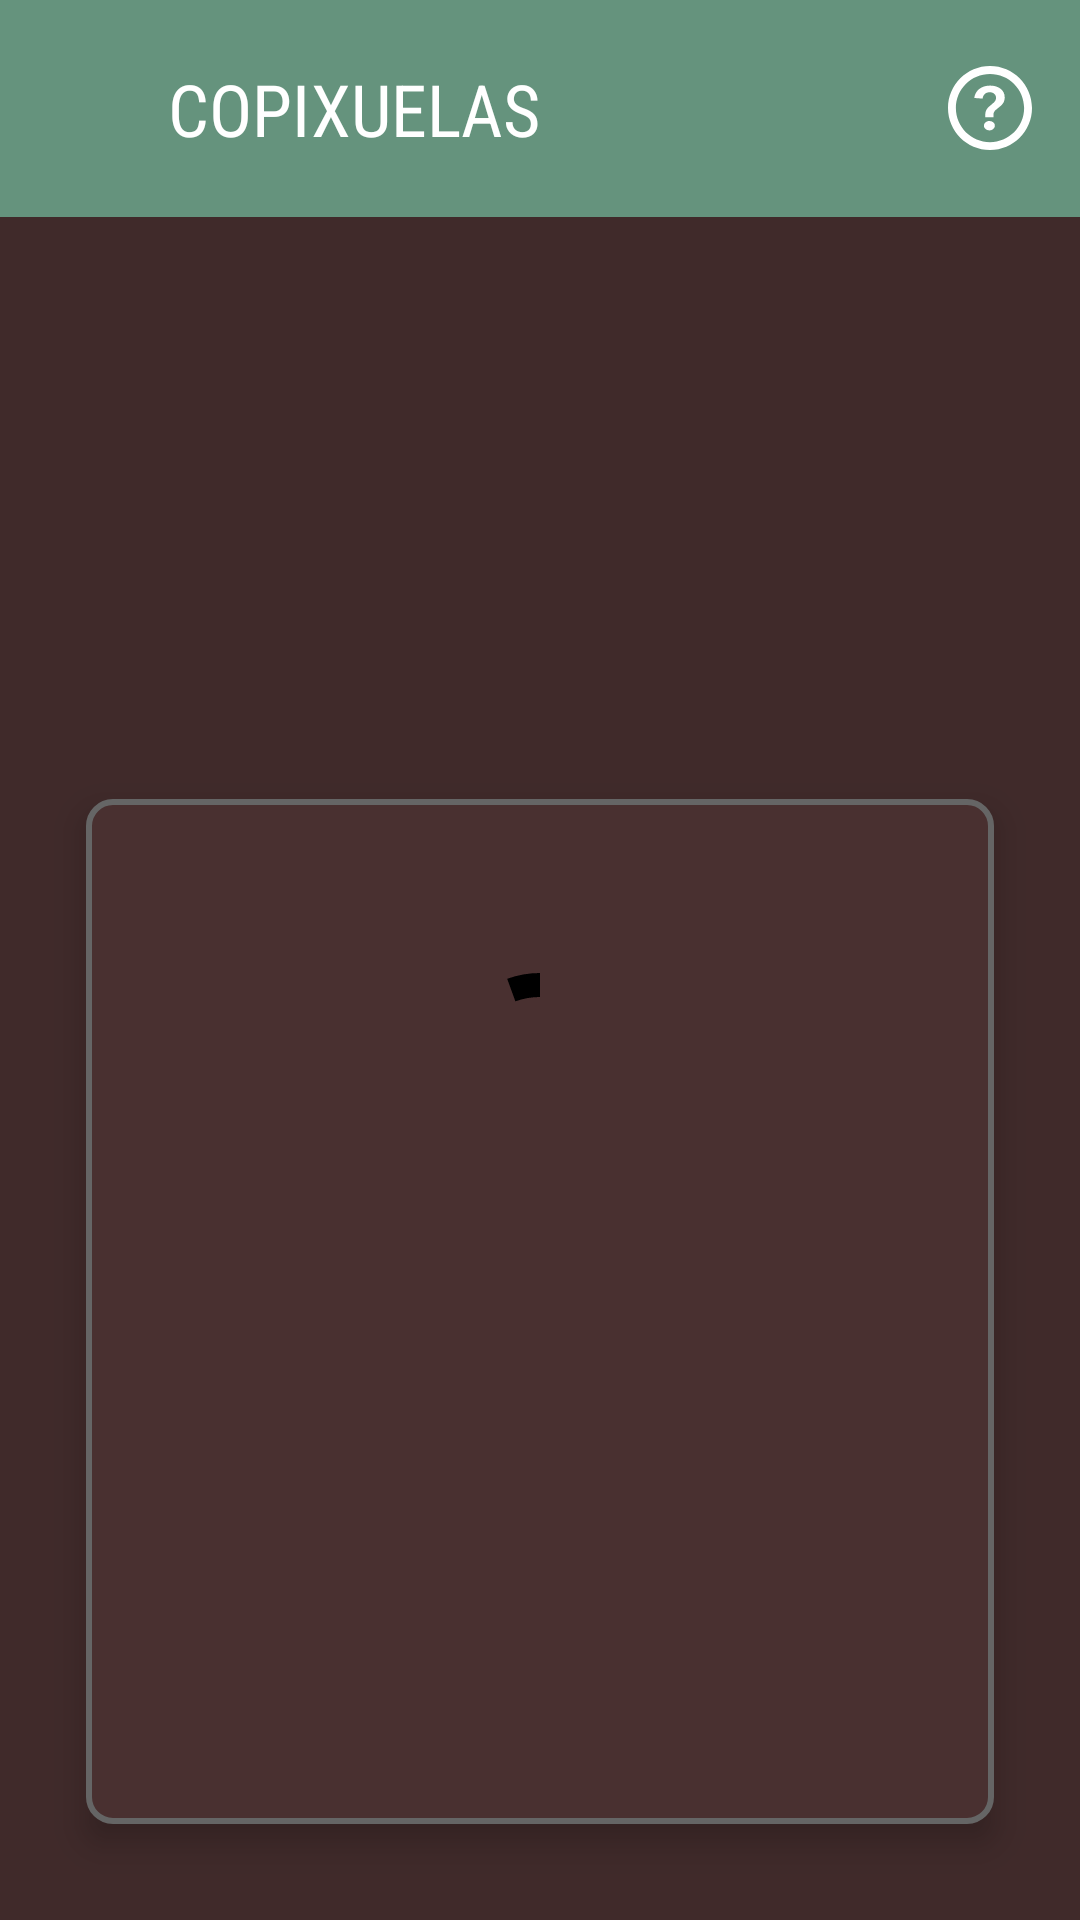

Where to tap for icons on this 1080 x 1920 app screen, as (x,y):
question: (990,108)
